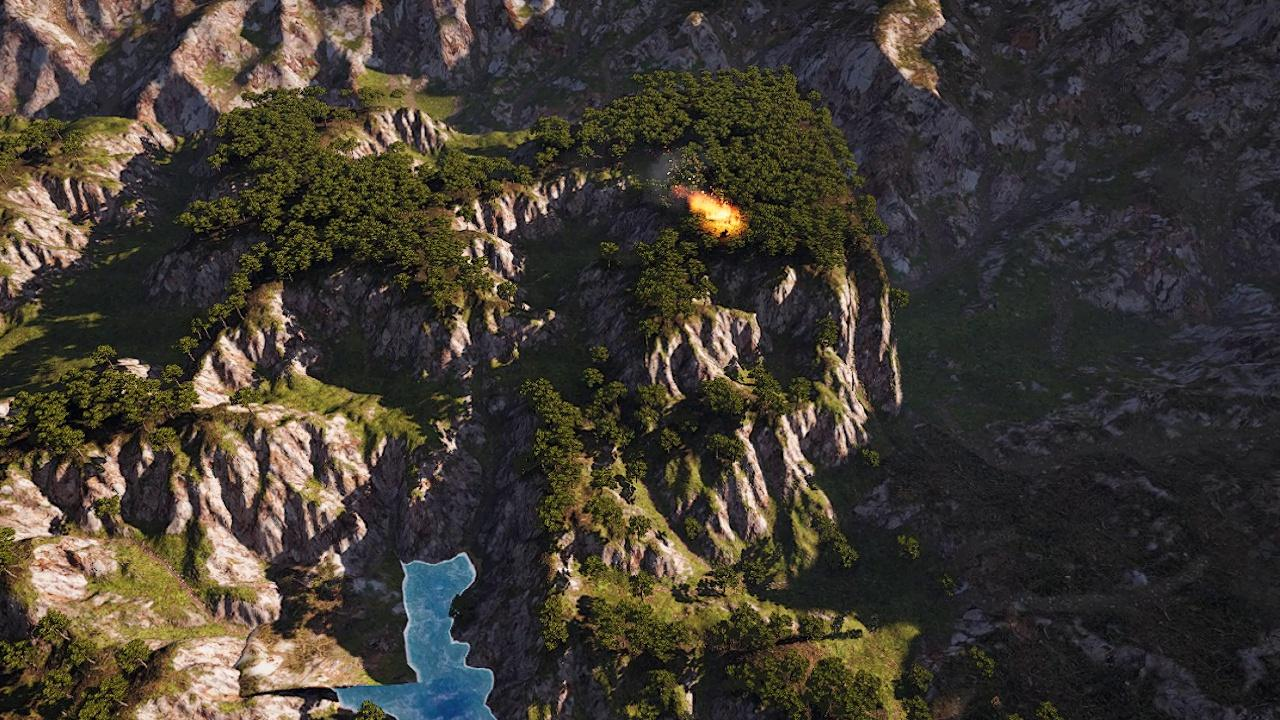fire: (689, 188, 740, 232)
